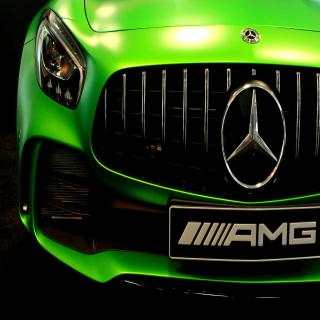Normal_vehicle: (16, 0, 320, 299)
